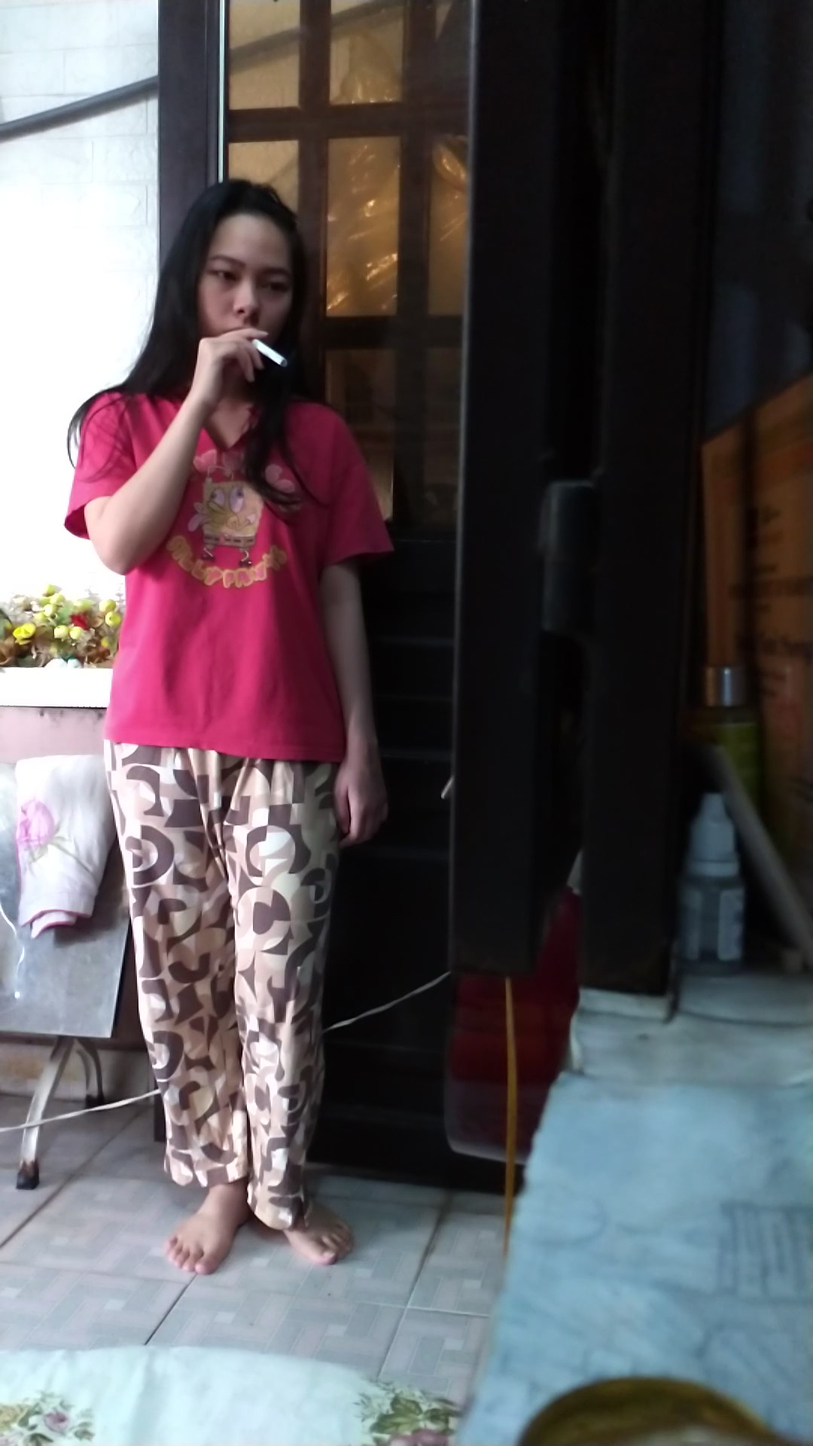cigarette: (254, 335, 293, 373)
person: (68, 147, 395, 1304)
